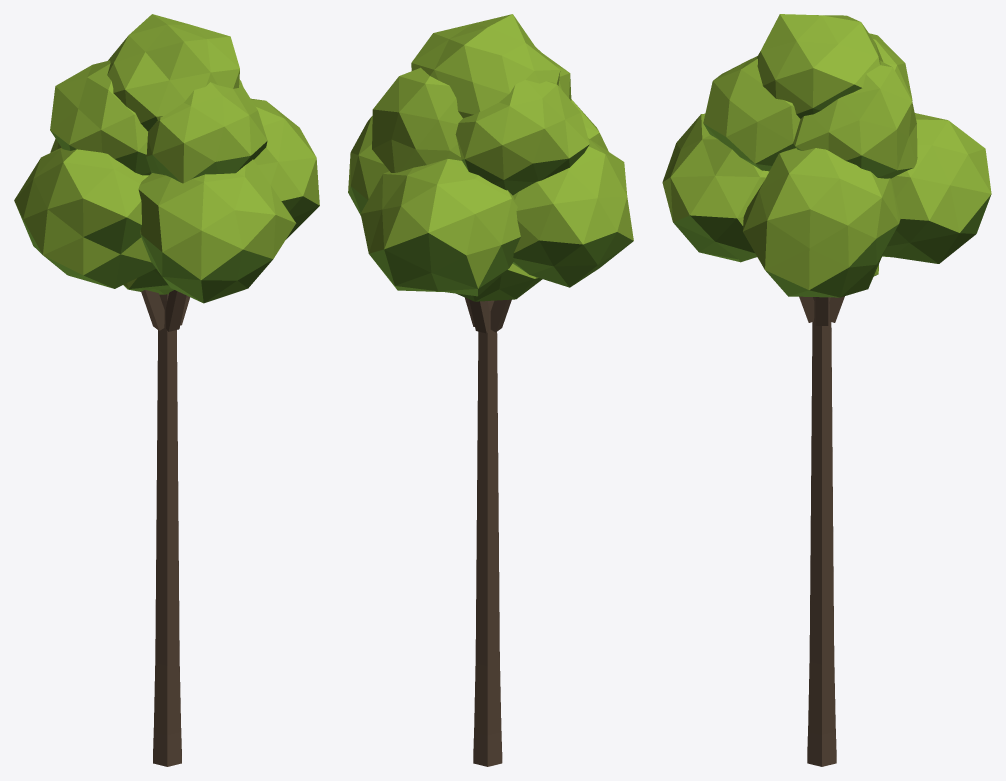
File: SM_Street_Tree_Keyaki_S_01.gltf
3 views of the same model, side by side, from view 1: azimuth 30°, elevation 25°; view 2: azimuth 150°, elevation 25°; view 3: azimuth 270°, elevation 25° (orthographic).
Parts seen in each view (by area): view 1: SM_Street_Tree_Keyaki_S_01; view 2: SM_Street_Tree_Keyaki_S_01; view 3: SM_Street_Tree_Keyaki_S_01.
Boxes of the visible parts, x1=… form: SM_Street_Tree_Keyaki_S_01: x1=14, y1=14, x2=319, y2=766; SM_Street_Tree_Keyaki_S_01: x1=348, y1=14, x2=633, y2=766; SM_Street_Tree_Keyaki_S_01: x1=662, y1=14, x2=991, y2=766.
Bounding box in the file's own units: 1.55 × 4.05 × 1.62.
1 material, 1 textured.
